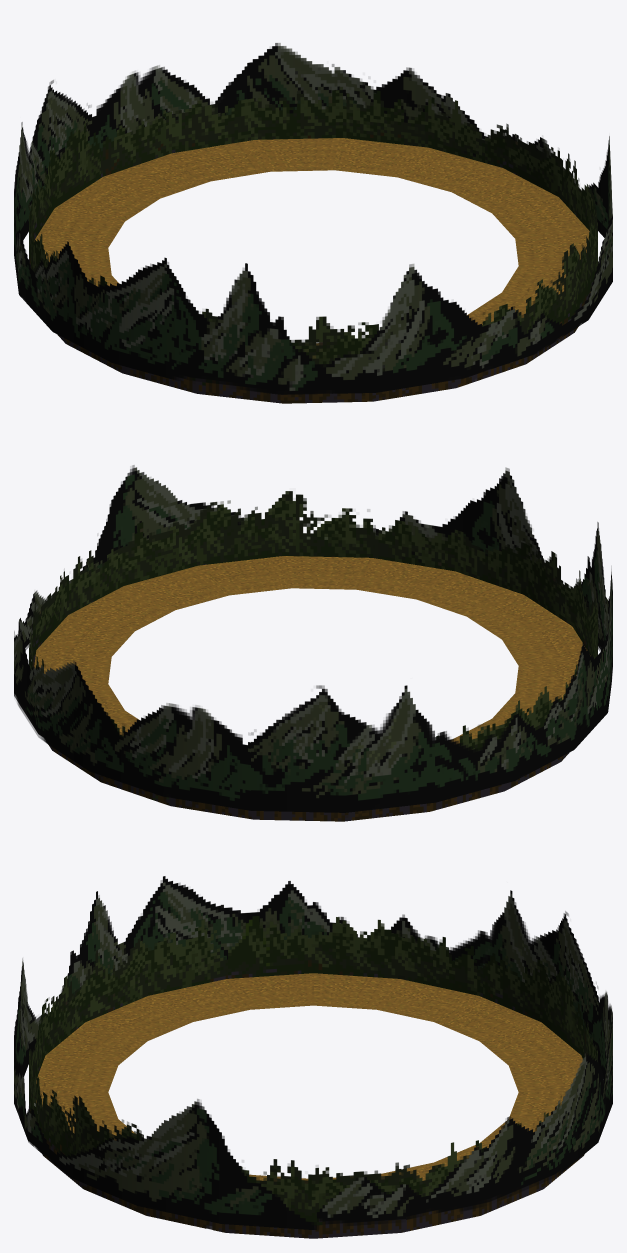
Rendered from enviroment ring.glb.
3 renders of one model, top to bottom at view 1: azimuth 30°, elevation 25°; view 2: azimuth 150°, elevation 25°; view 3: azimuth 270°, elevation 25°, orthographic.
Visible parts, largest first — view 1: montanhas_geo, arvore_geo, groundlevelparallax_geo; view 2: montanhas_geo, arvore_geo, groundlevelparallax_geo; view 3: montanhas_geo, arvore_geo, groundlevelparallax_geo.
Part boxes in pixels (box(x1,y1,x2,y2)): montanhas_geo: box(14, 43, 612, 394); arvore_geo: box(29, 87, 597, 403); groundlevelparallax_geo: box(34, 138, 589, 358); montanhas_geo: box(14, 465, 612, 812); arvore_geo: box(29, 491, 597, 821); groundlevelparallax_geo: box(34, 556, 590, 743); montanhas_geo: box(14, 876, 612, 1229); arvore_geo: box(29, 916, 597, 1238); groundlevelparallax_geo: box(36, 973, 583, 1180).
Size of the model in its own units: 60.77 by 15.87 by 60.77.
3 materials, 3 textured.
